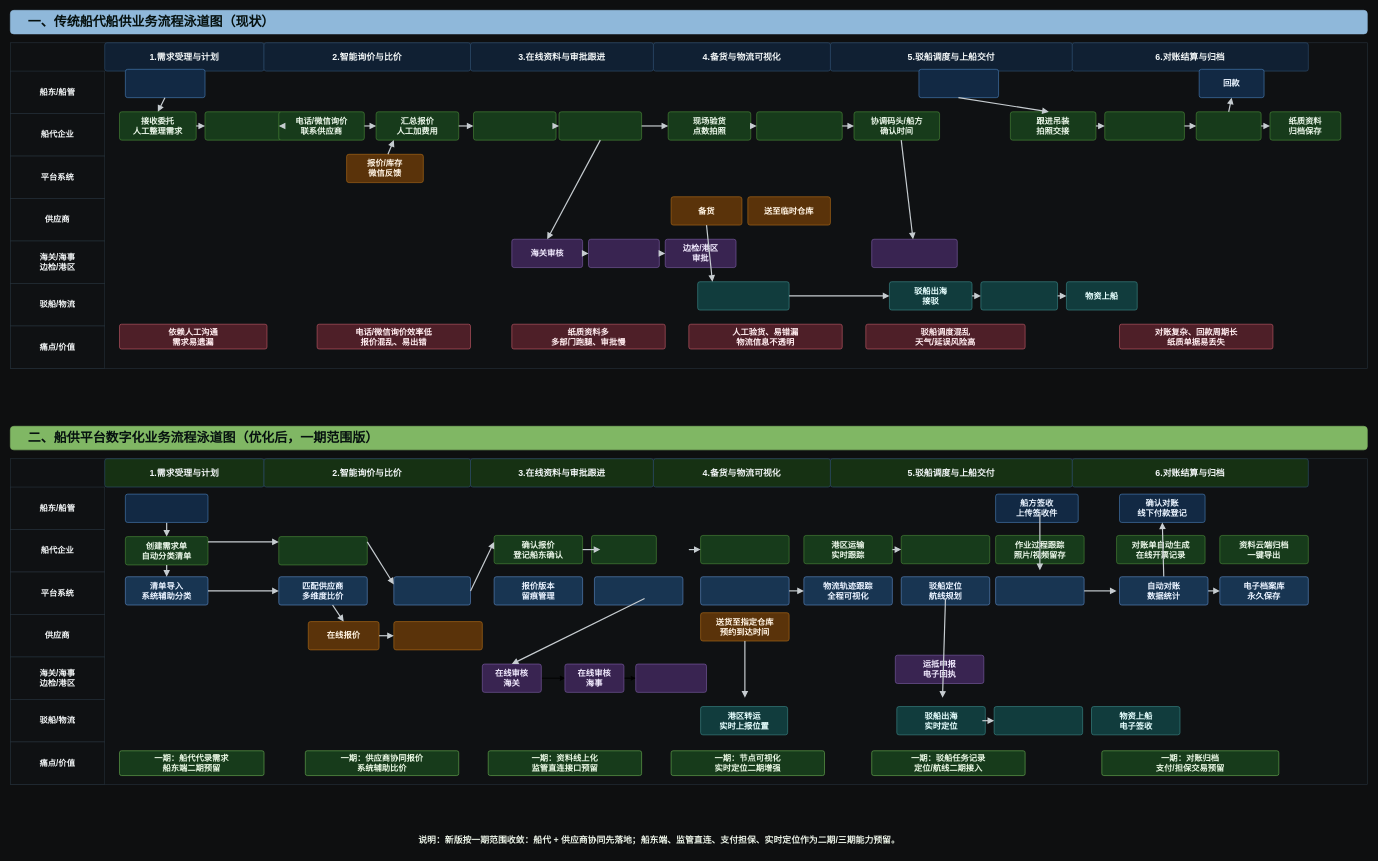
This 1378x861 diagram has some shape labels left out. The shapes that lost their labels are listed below. From the top down, each one's centre as x and y in pixels, then its label:
At pixel 165 83: "邮件下发 补给清单".
At pixel 958 83: "船长/大副 签字确认".
At pixel 243 125: "分类清单 依赖经验".
At pixel 514 125: "制作报价单 发船东确认".
At pixel 600 125: "制作申报资料 人工跑单".
At pixel 799 125: "安排车辆 转运至码头".
At pixel 1144 125: "费用汇总 人工对账".
At pixel 1228 125: "开票 服务费".
At pixel 623 253: "海事审核".
At pixel 914 253: "运抵申报 拍照发海关".
At pixel 743 295: "港区转运 至码头接驳点".
At pixel 1019 295: "吊船作业 靠泊/锚地船".
At pixel 166 508: "线下/邮件委托 船东确认附件".
At pixel 322 550: "选择供应商范围 一键发起询价".
At pixel 623 549: "在线提交资料 系统模板".
At pixel 744 549: "查看备货进度 异常记录".
At pixel 945 549: "驳船调度 时间预约".
At pixel 432 590: "自动计算费用 生成报价单".
At pixel 638 590: "电子申报资料 一键生成".
At pixel 744 590: "验货照片上传 留存凭证".
At pixel 1039 590: "电子签收 自动核销".
At pixel 437 635: "确认订单 备货".
At pixel 671 677: "审批状态登记 接口预留".
At pixel 1038 720: "到船吊装 实时记录".
